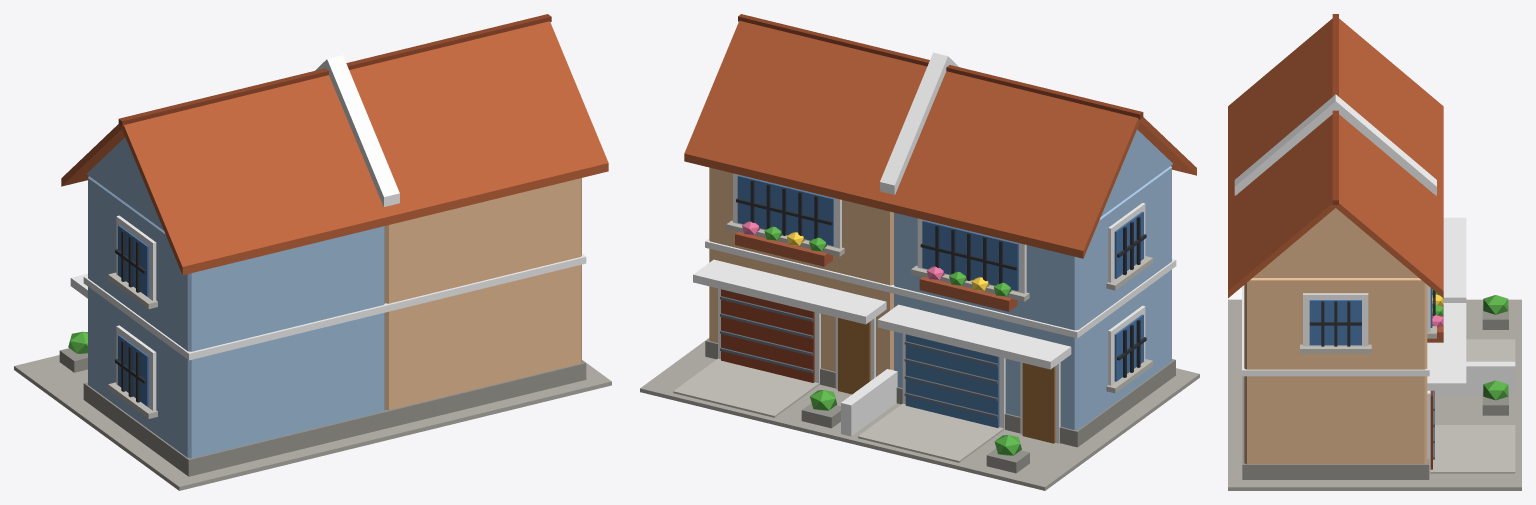
The model's file is sobrados_geminados.glb.
The picture shows the model from 3 angles, left to right: view 1: azimuth 30°, elevation 25°; view 2: azimuth 150°, elevation 25°; view 3: azimuth 270°, elevation 25°; orthographic projection. The views are drawn at different scales.
Parts seen in each view (by area): view 1: corpo; view 2: corpo; view 3: corpo.
Part boxes in pixels (<box>): corpo: <box>14,14,611,490</box>; corpo: <box>640,14,1199,490</box>; corpo: <box>1228,14,1521,490</box>.
Bounding box in the file's own units: 1.36 × 1.01 × 0.9.
